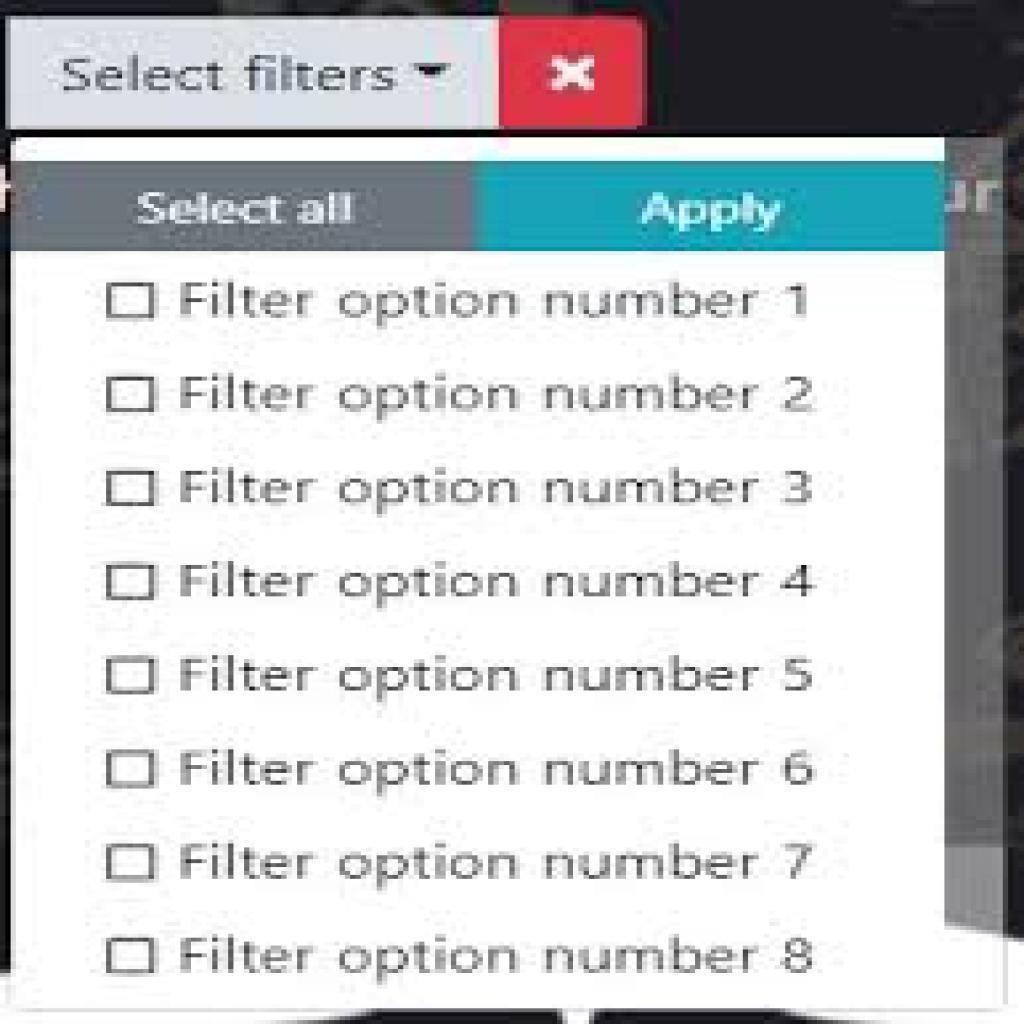checkbox: (105, 564, 158, 601), (106, 939, 156, 975), (106, 472, 156, 507), (106, 844, 156, 879), (107, 283, 156, 318), (107, 754, 156, 789), (108, 661, 159, 694), (107, 378, 157, 411)
dropdown: (8, 18, 500, 135)
